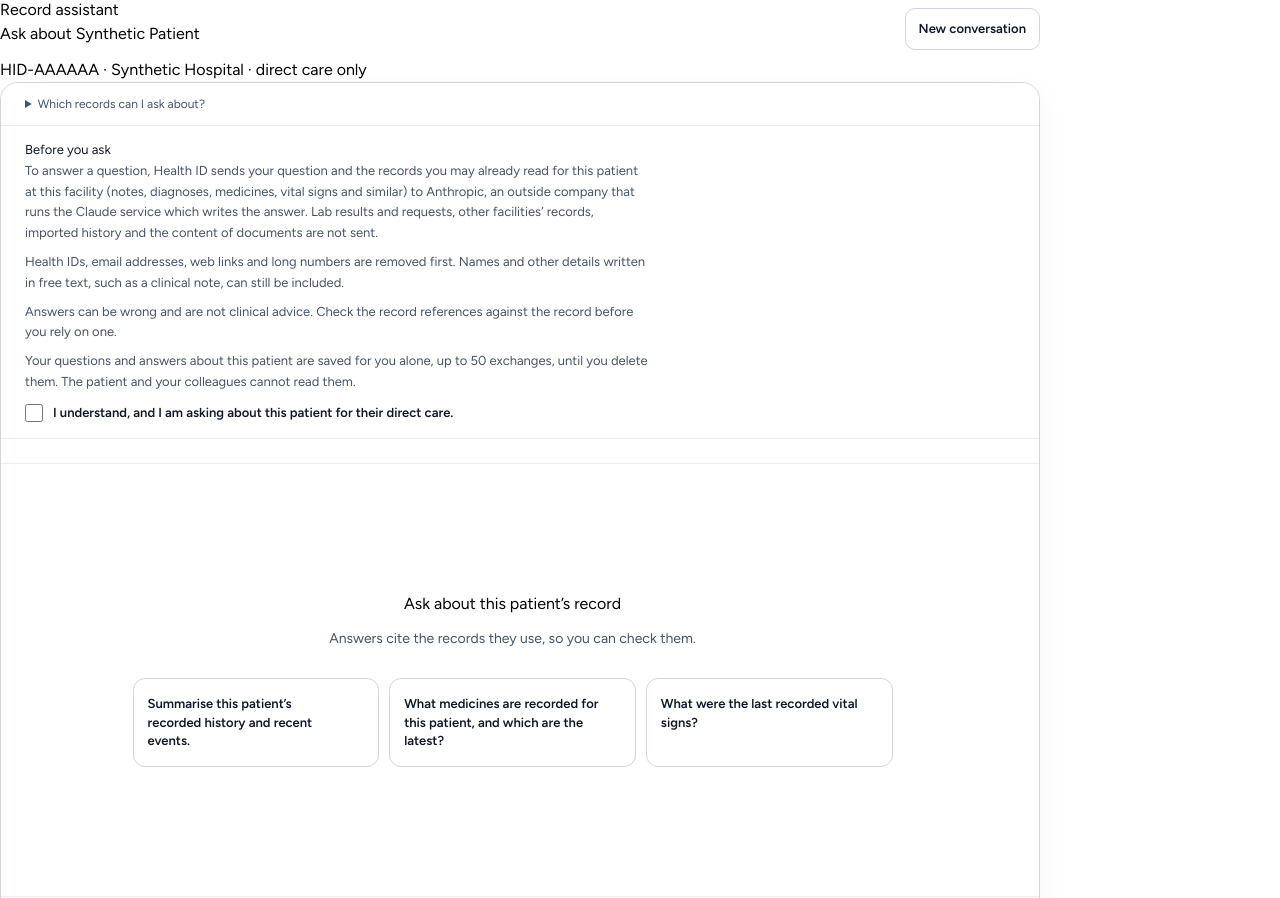
Test: StaffRecordChat › says what RECORD_CHAT_RATE_LIMITED means
The width and height of the screenshot is (1280, 898).
expect the heading "Before you ask" is shown: met, box [25,142,111,157]
Click the checkbox labelled "I understand" at (34, 413), box [25,404,43,422]
(page scrolled)
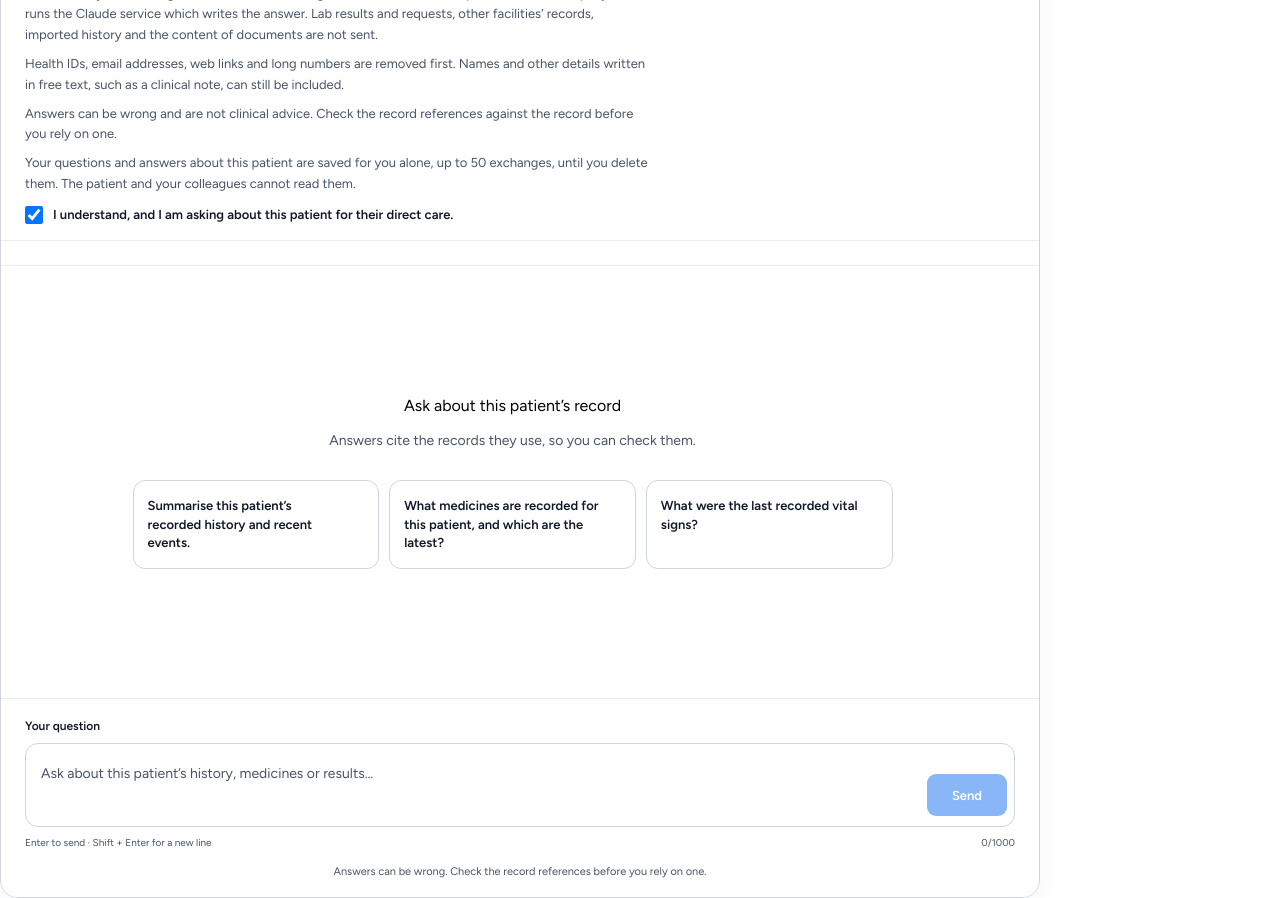
Type "What was the blood pressure?" into the text box labelled "Your question" at (475, 785), box [33,751,917,819]
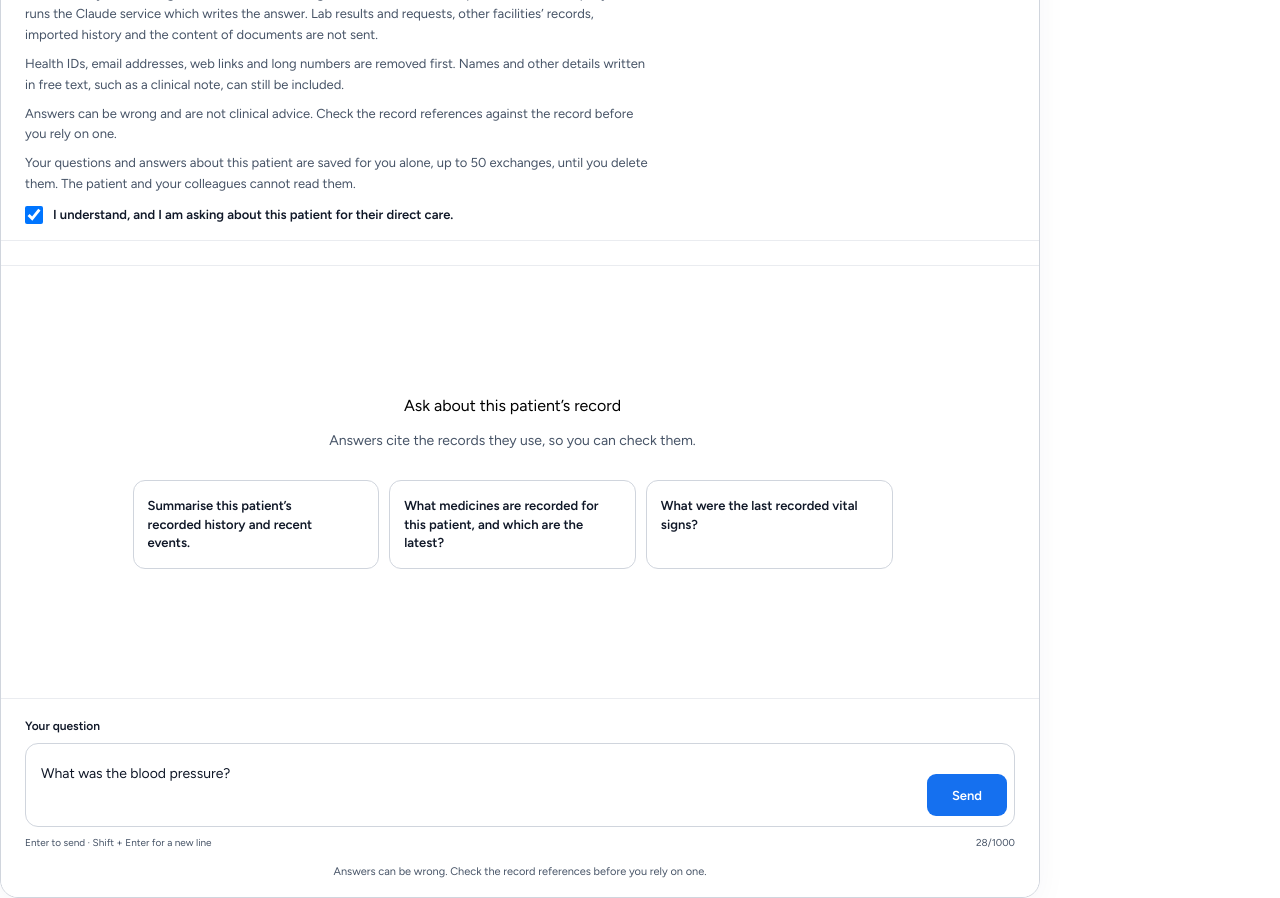
Click the button "Send" at (967, 795), box [927,774,1007,816]
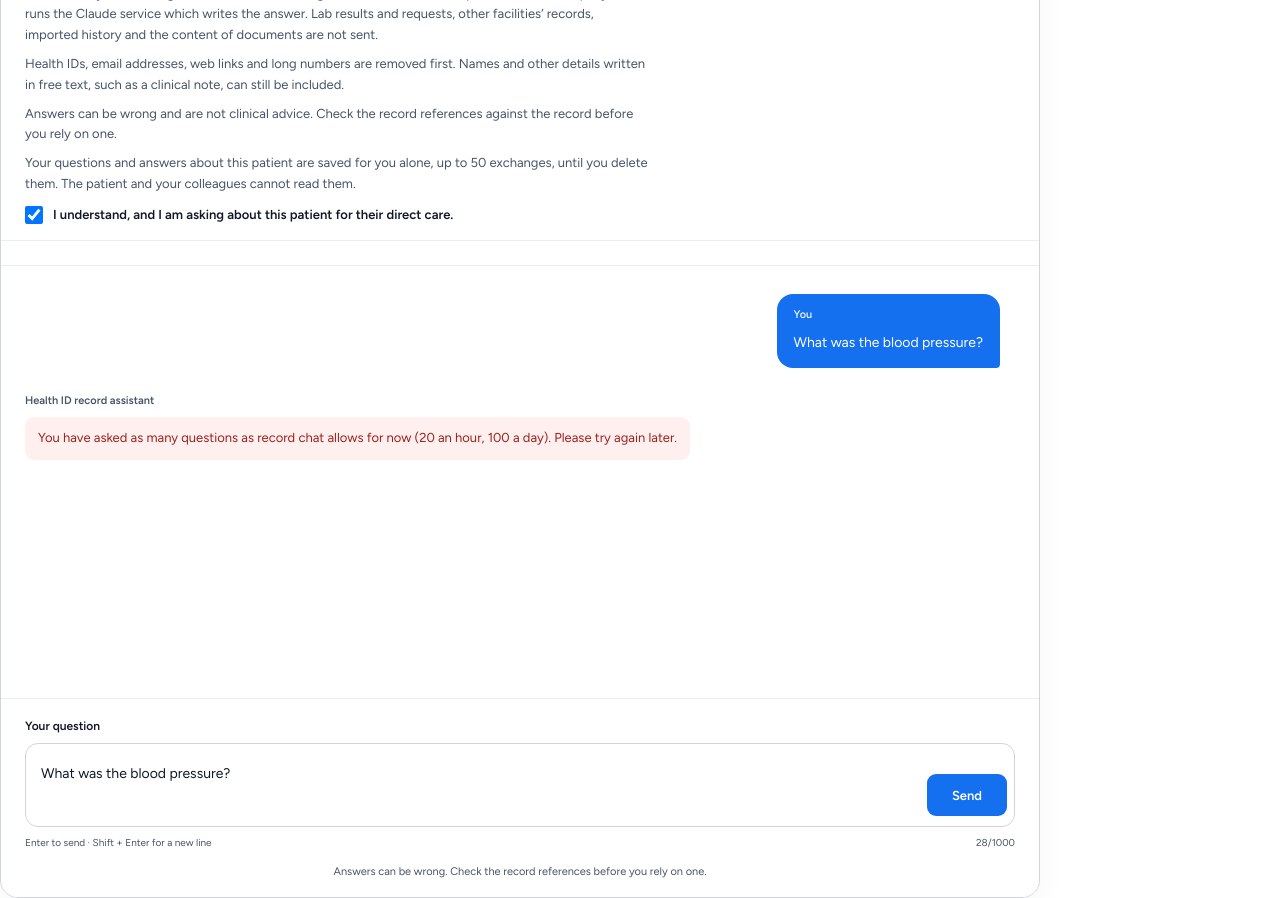
expect the text "20 an hour, 100 a day" is shown: met, box [38,430,677,445]
